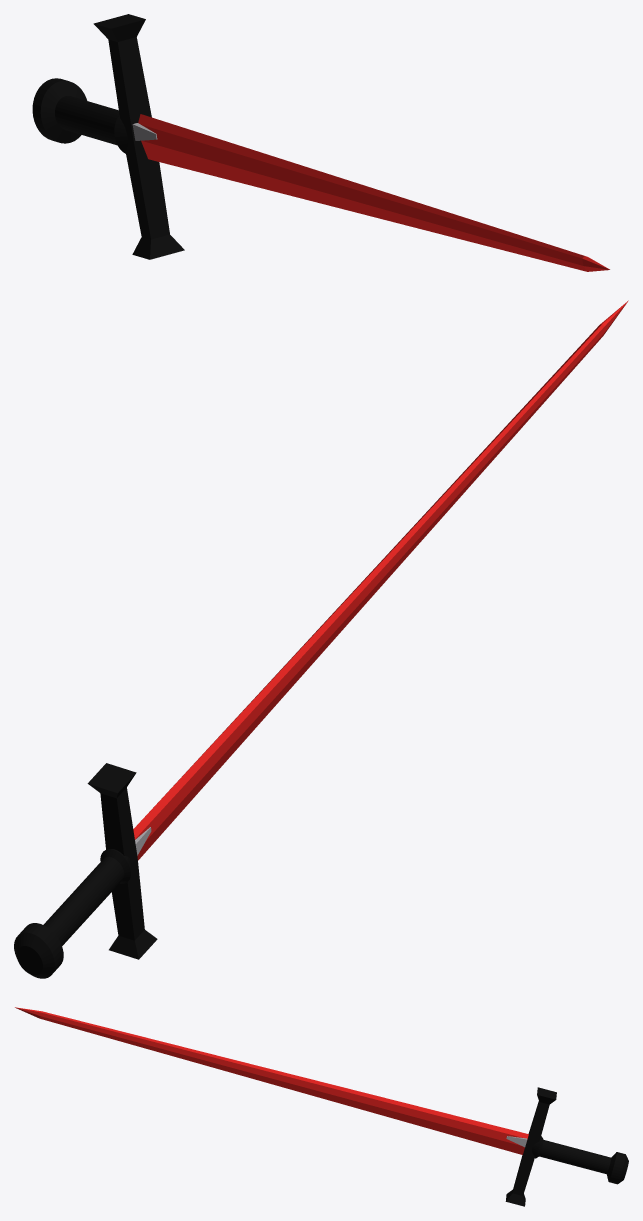
The model's file is Sword1_raw.fbx.
3 views of the same model, one above another, from view 1: azimuth 30°, elevation 25°; view 2: azimuth 150°, elevation 25°; view 3: azimuth 270°, elevation 25° (orthographic). The views are drawn at different scales.
Parts seen in each view (by area): view 1: Sword; view 2: Sword; view 3: Sword.
Boxes of the visible parts, box(x1,y1,x2,y2) form: Sword: box(32, 14, 609, 271); Sword: box(14, 300, 628, 978); Sword: box(15, 1007, 628, 1206).
Bounding box in the file's own units: 5.18 × 23.41 × 70.95.
